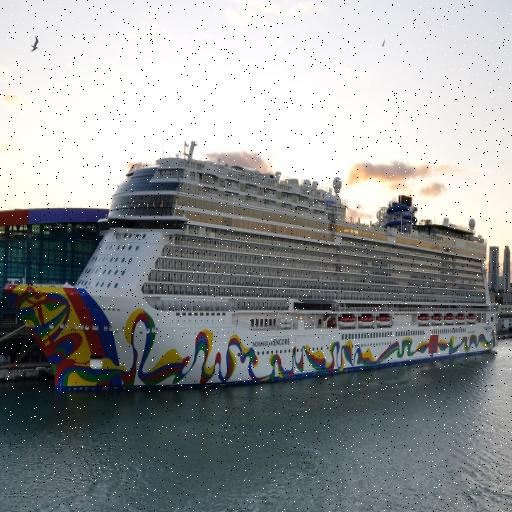cruises: (4, 136, 504, 406)
